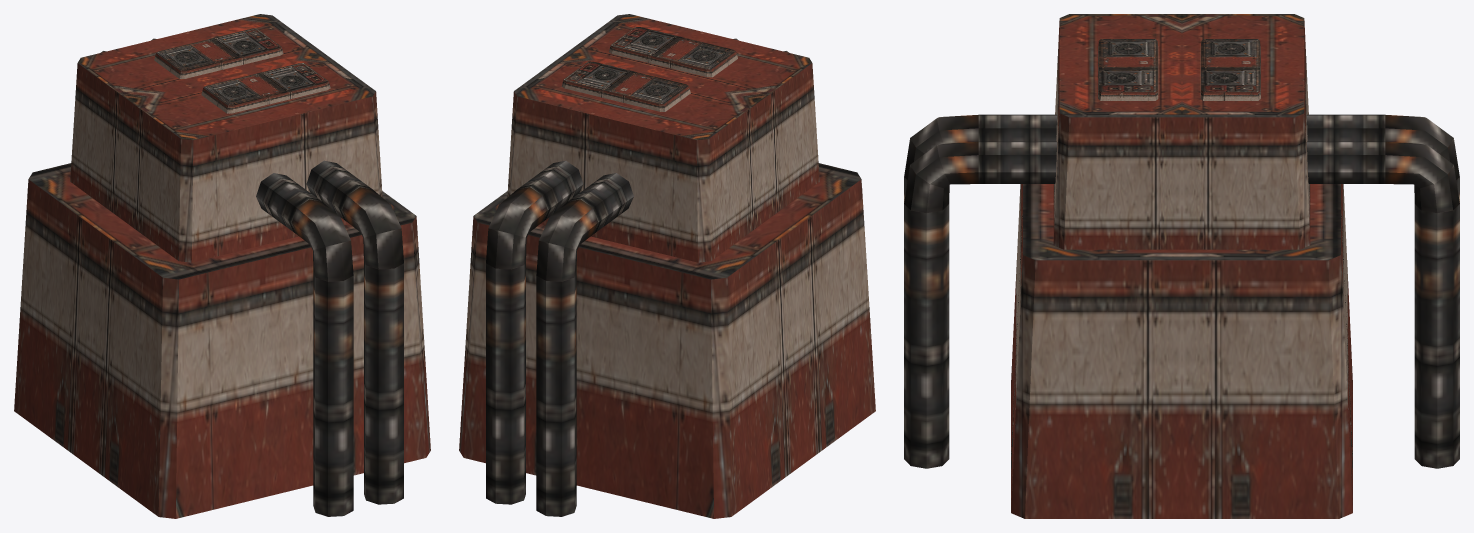
File: storehouse.dae
3 views of the same model, side by side, from view 1: azimuth 30°, elevation 25°; view 2: azimuth 150°, elevation 25°; view 3: azimuth 270°, elevation 25° (orthographic). The views are drawn at different scales.
Visible parts, largest first — view 1: storehouse; view 2: storehouse; view 3: storehouse.
Boxes of the visible parts, box(x1,y1,x2,y2) form: storehouse: box(14, 14, 430, 518); storehouse: box(459, 14, 875, 518); storehouse: box(904, 14, 1459, 518).
Bounding box in the file's own units: 12.68 × 20.63 × 16.02.
